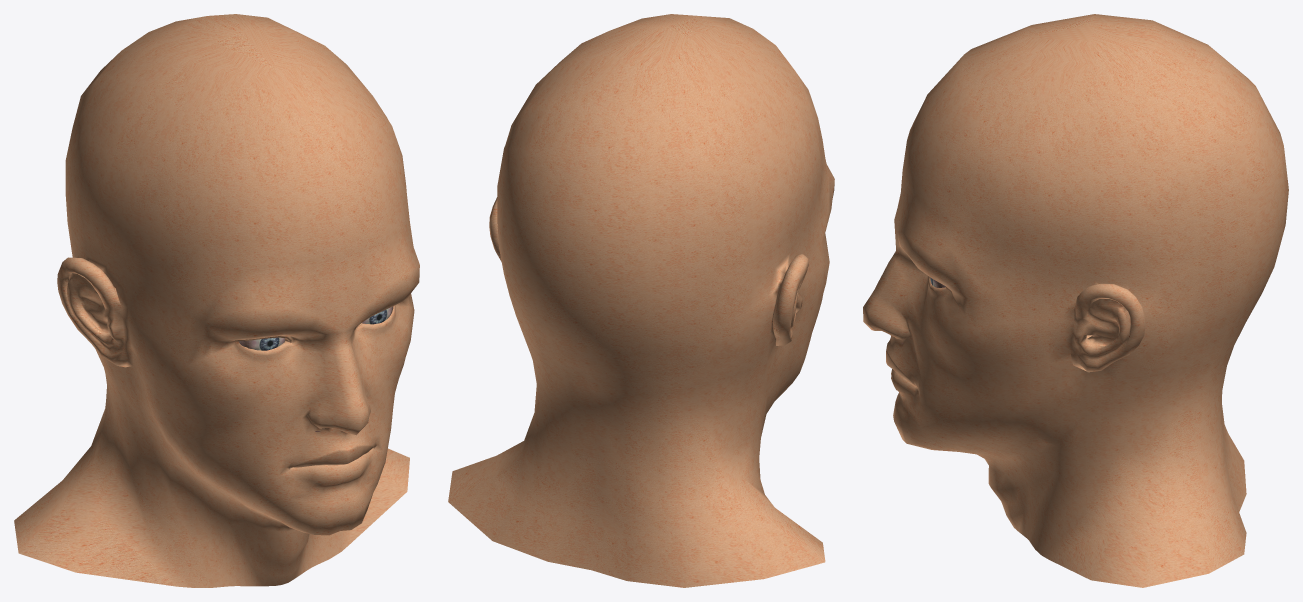
3 renders of one model, left to right at view 1: azimuth 30°, elevation 25°; view 2: azimuth 150°, elevation 25°; view 3: azimuth 270°, elevation 25°, orthographic. The views are drawn at different scales.
Parts seen in each view (by area): view 1: head; view 2: head; view 3: head.
Part boxes in pixels (<box>): head: <box>14,14,419,587</box>; head: <box>448,14,834,587</box>; head: <box>863,14,1288,587</box>.
Size of the model in its own units: 44.22 by 43.6 by 56.51.
4 materials, 2 textured.
